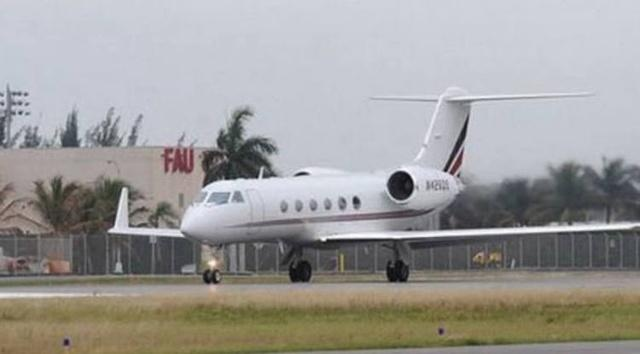airplane: (99, 84, 611, 287)
